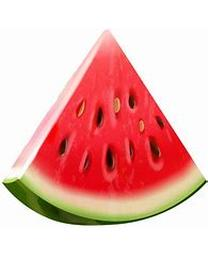watermelon: (4, 28, 206, 226)
